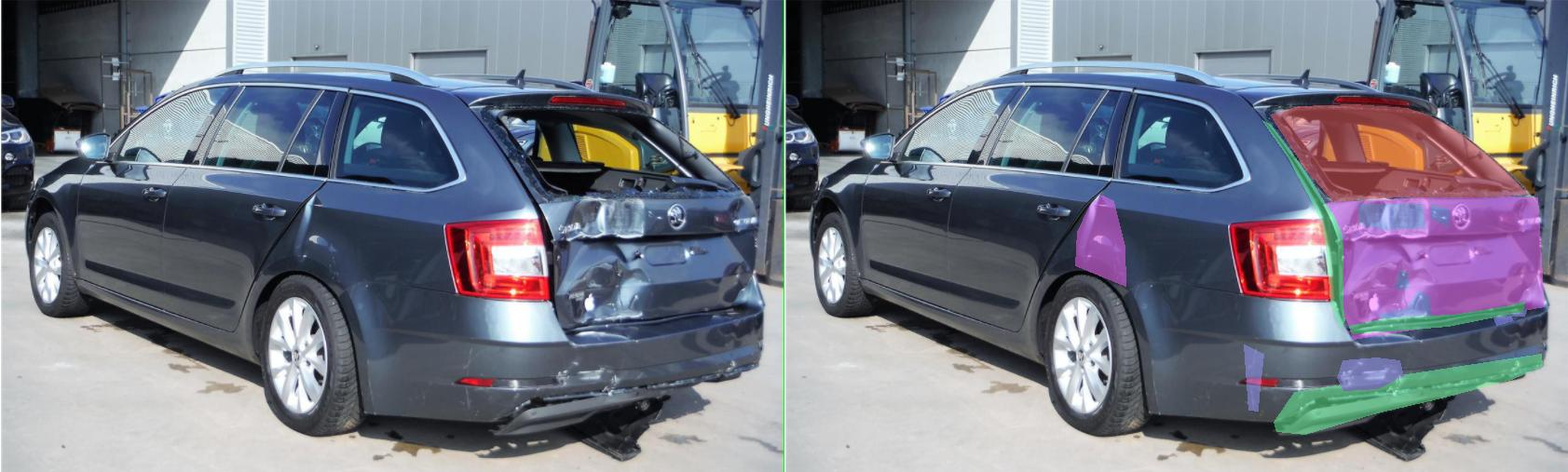Broken part: (979, 354, 1516, 434), (956, 120, 1121, 328), (1130, 302, 1480, 333)
Dent: (1070, 196, 1520, 339), (582, 195, 682, 286)
Missing part: (971, 104, 1488, 201)
Scratch: (1106, 357, 1238, 390), (1191, 290, 1296, 327), (1148, 204, 1281, 229), (919, 344, 958, 411), (1413, 307, 1458, 325), (1294, 205, 1329, 226), (1221, 270, 1249, 289), (1454, 306, 1486, 316)
